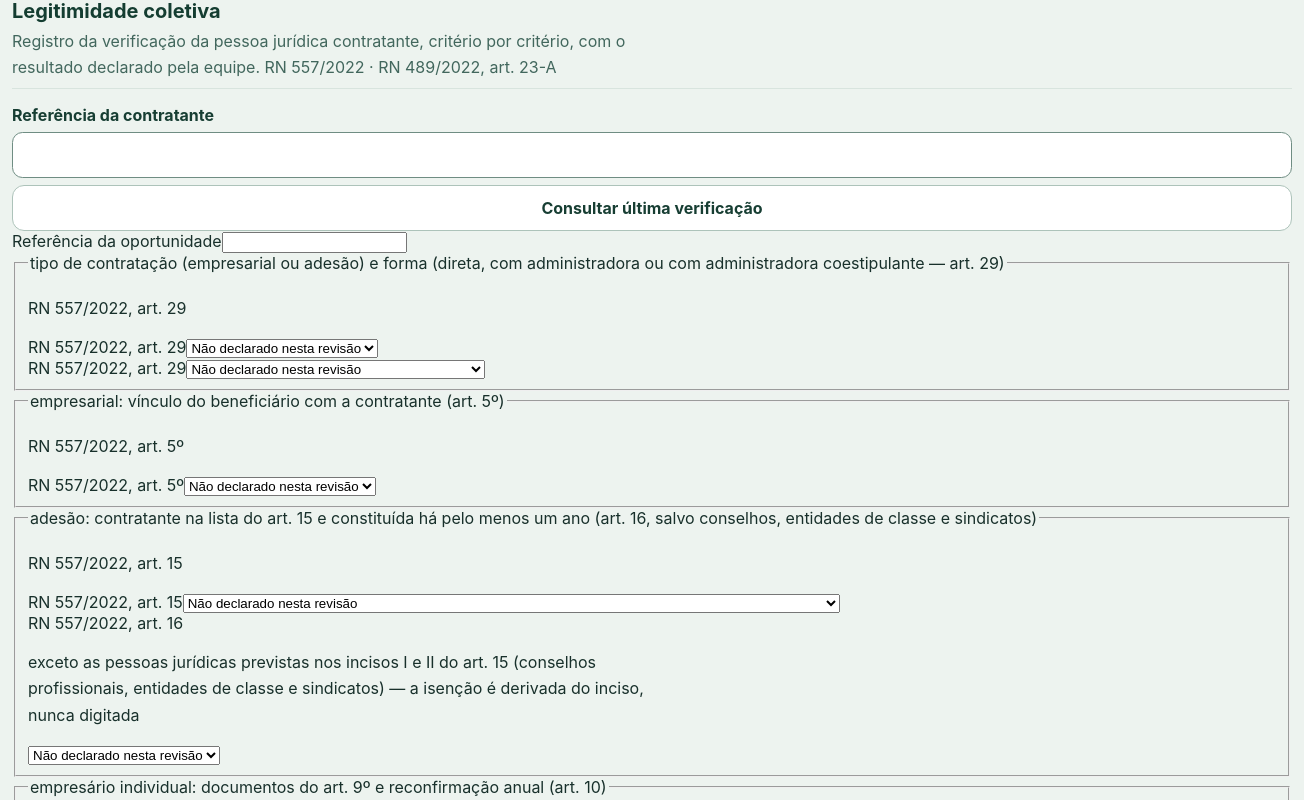
it: revalidates with the known revision and shows the revision the server minted
Expected: the heading "Legitimidade coletiva" is shown, 12,0 -> 221,23
In the field labelled "Referência da contratante": (652, 155) 12,132 -> 1292,178, type "pj-ref-1"
Click the button "Consultar última verificação": (652, 208) 12,184 -> 1292,231
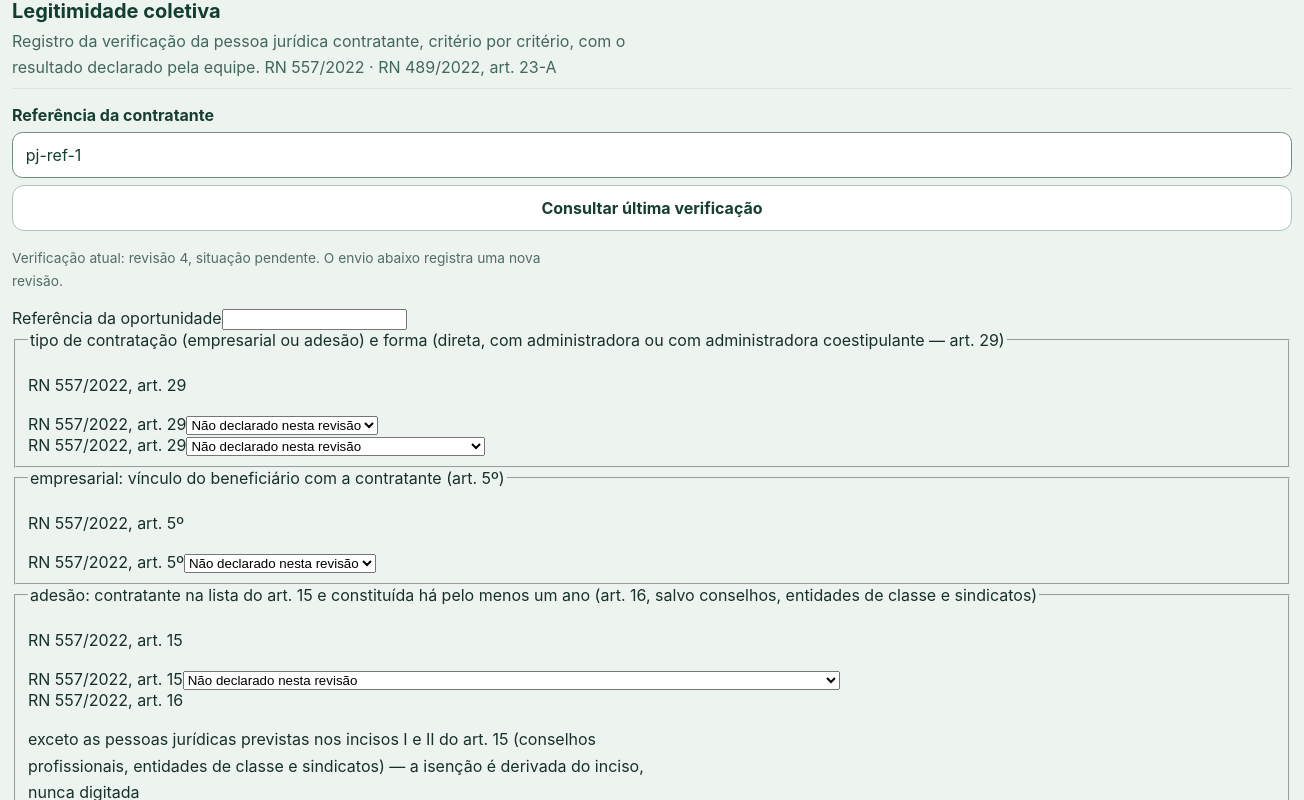
Result: the text "Verificação atual: revisão 4, situação pendente" is shown at 12,247 -> 576,292
In the field labelled "Referência da oportunidade": (314, 320) 222,309 -> 407,330, type "op-ref-1"
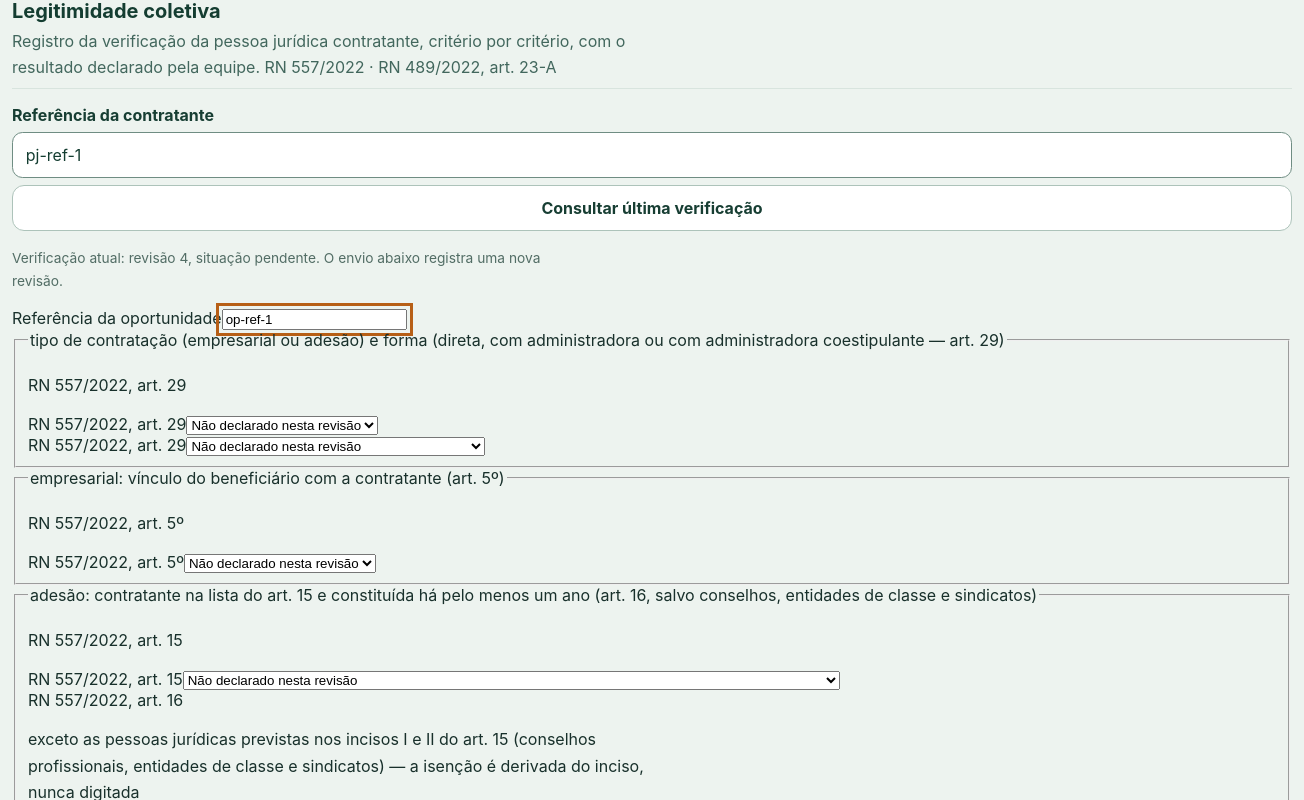
Select "empresarial" in the 1st dropdown labelled "RN 557/2022, art. 29": (282, 426) 186,416 -> 378,435
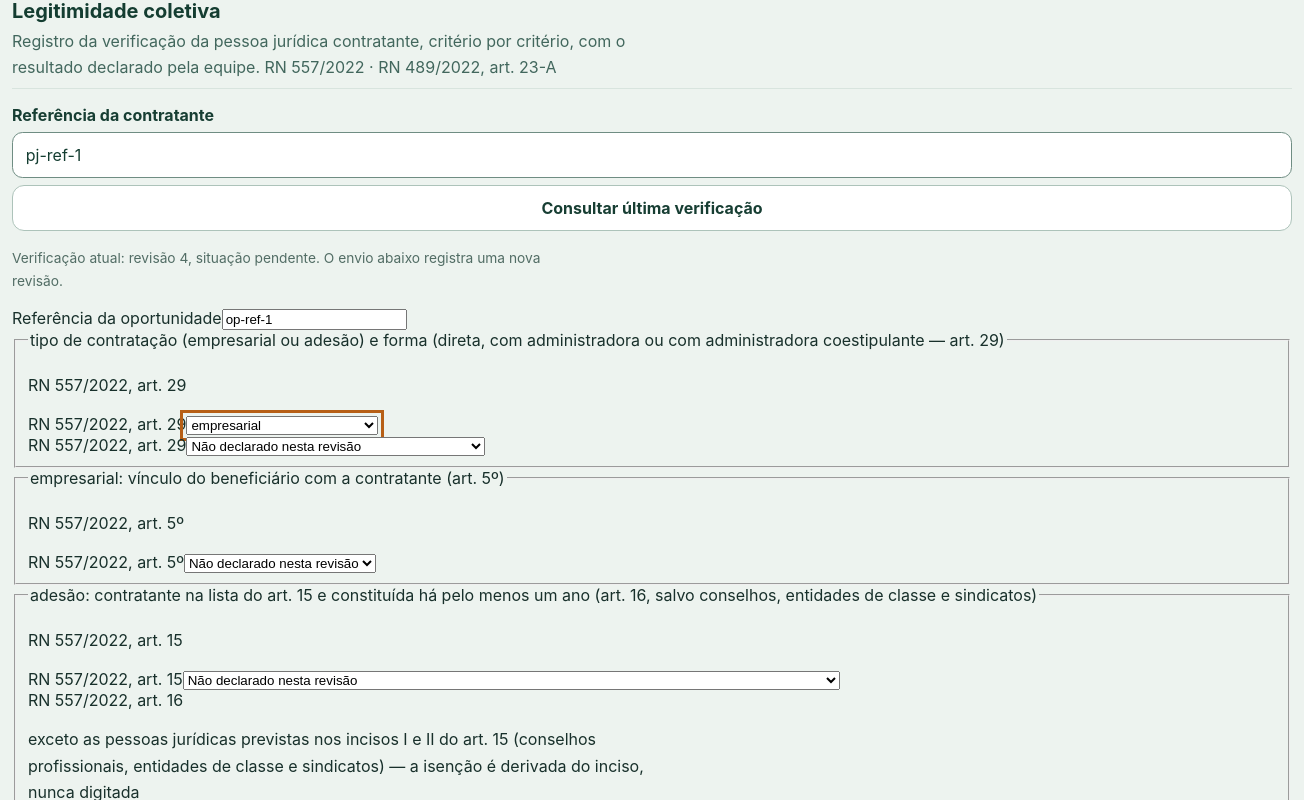
Select "direta — art. 29, I" in the 2nd dropdown labelled "RN 557/2022, art. 29": (336, 447) 186,437 -> 485,456
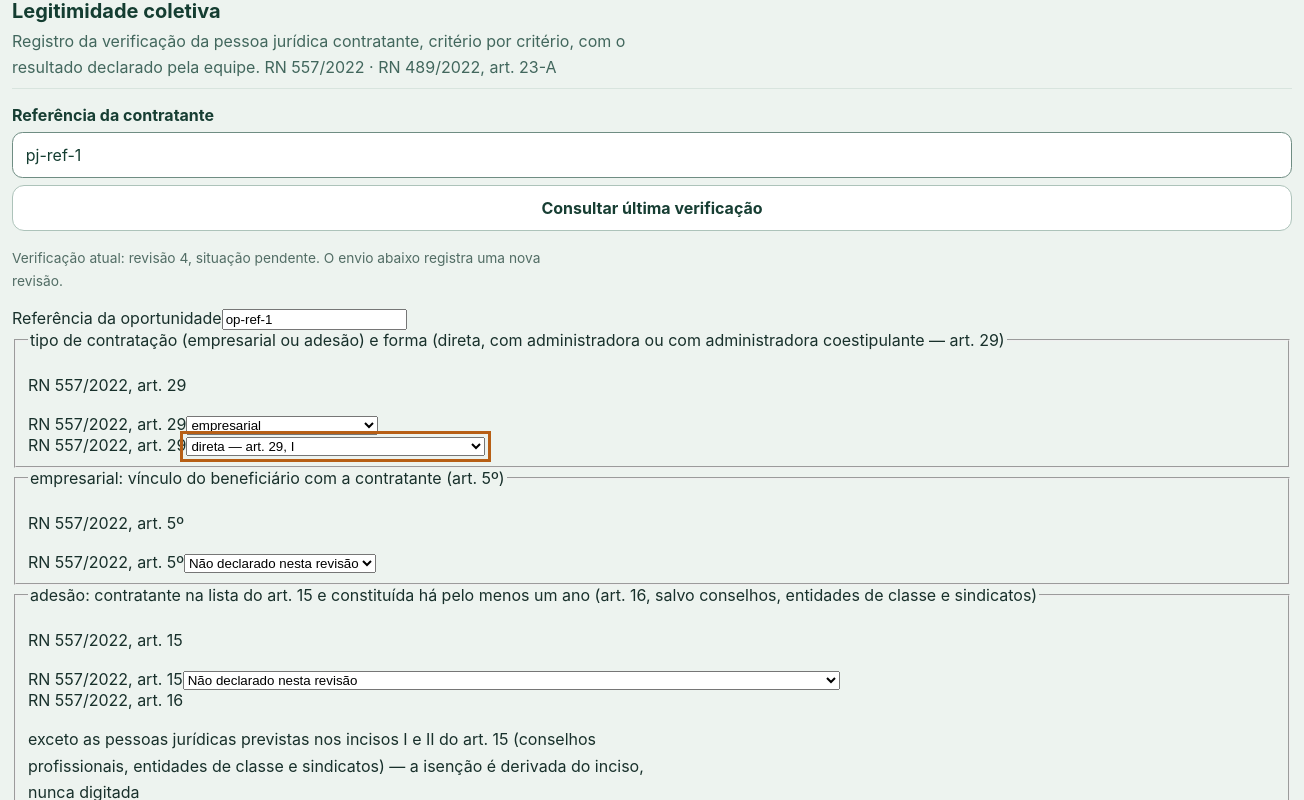
Select "comprovado" in the dropdown labelled "RN 557/2022, art. 5º": (280, 564) 184,554 -> 376,573
(page scrolled)
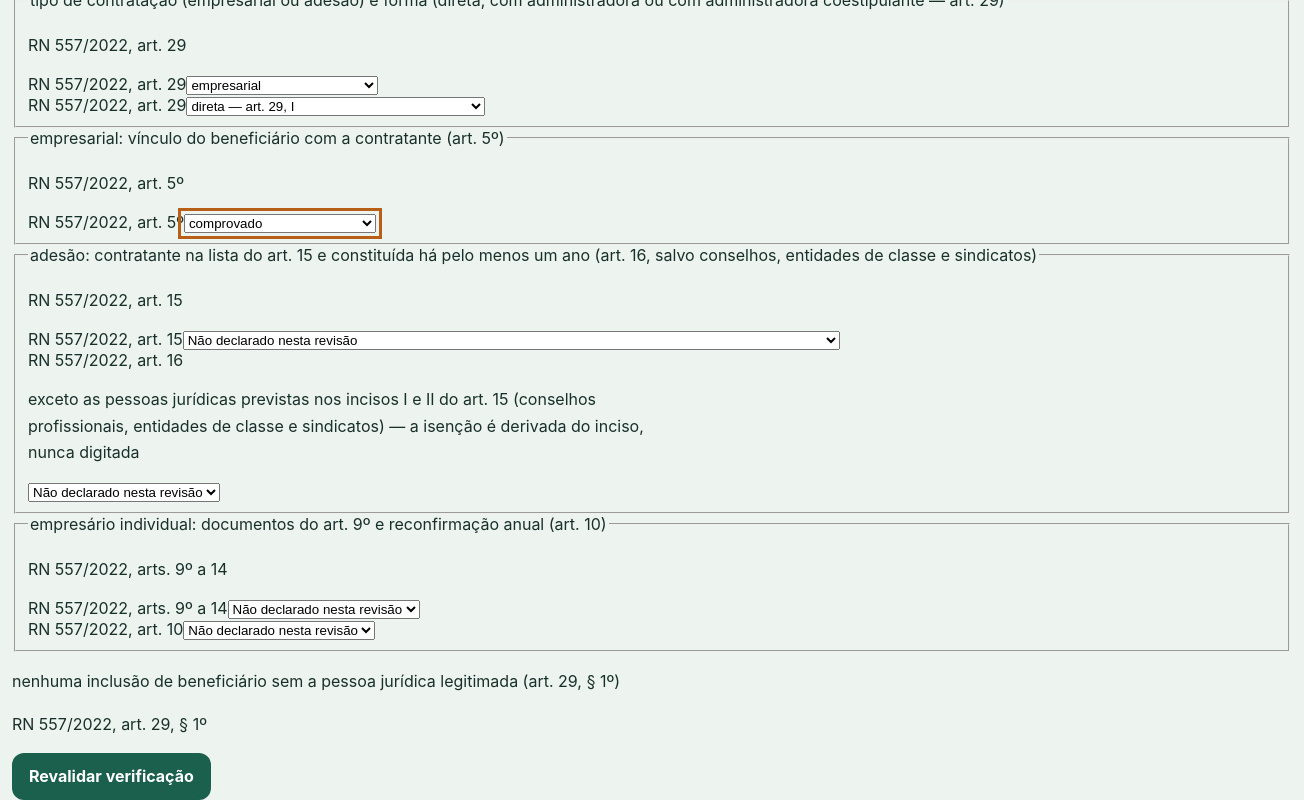
Click the button "Revalidar verificação": (111, 776) 12,753 -> 211,799
(page scrolled)
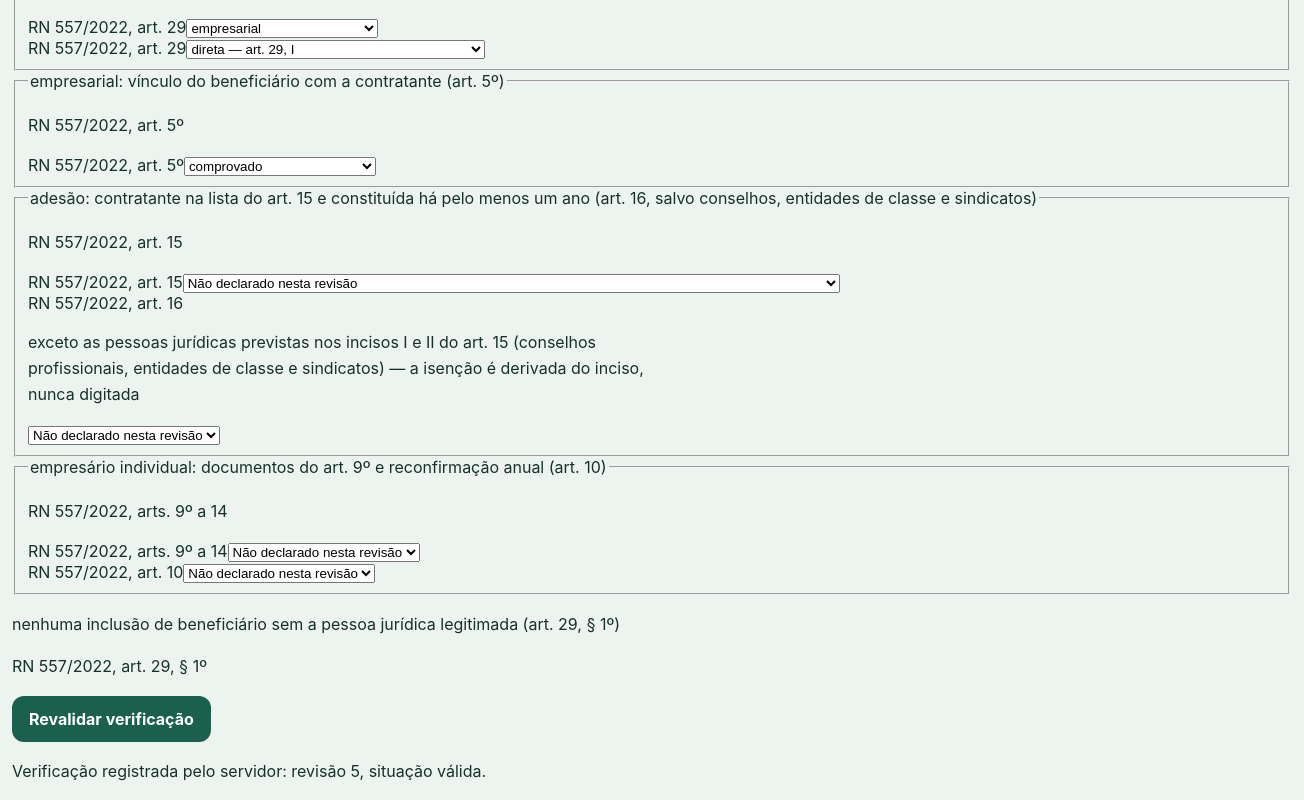
Result: the message reads "Verificação registrada pelo servidor: revisão 5, situação válida." at 12,761 -> 486,781
